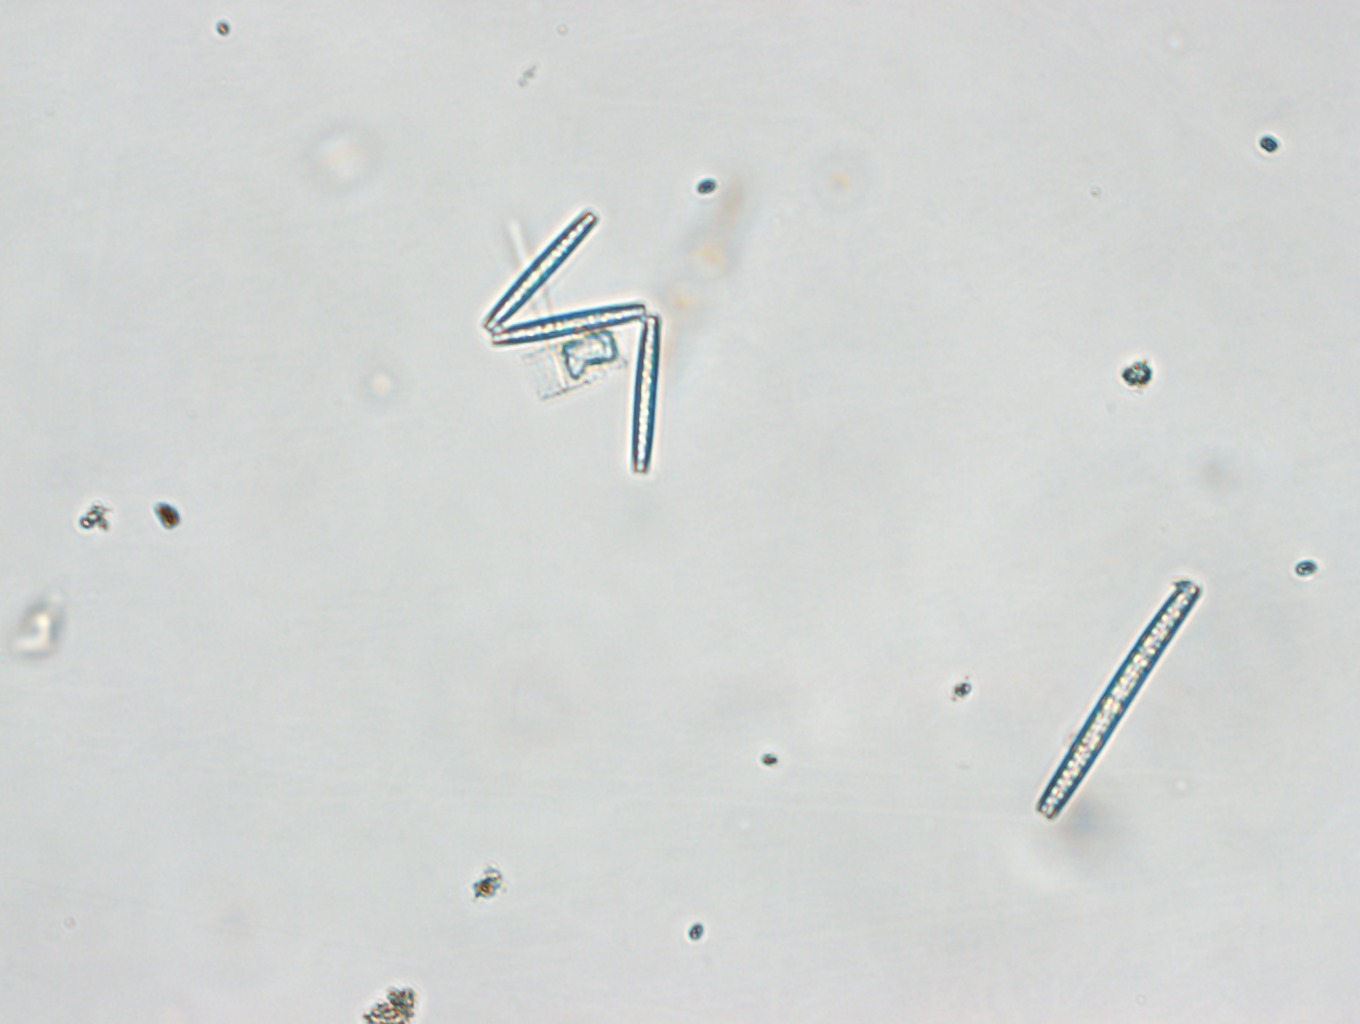thalassionema nitzschioides: (476, 210, 667, 478)
